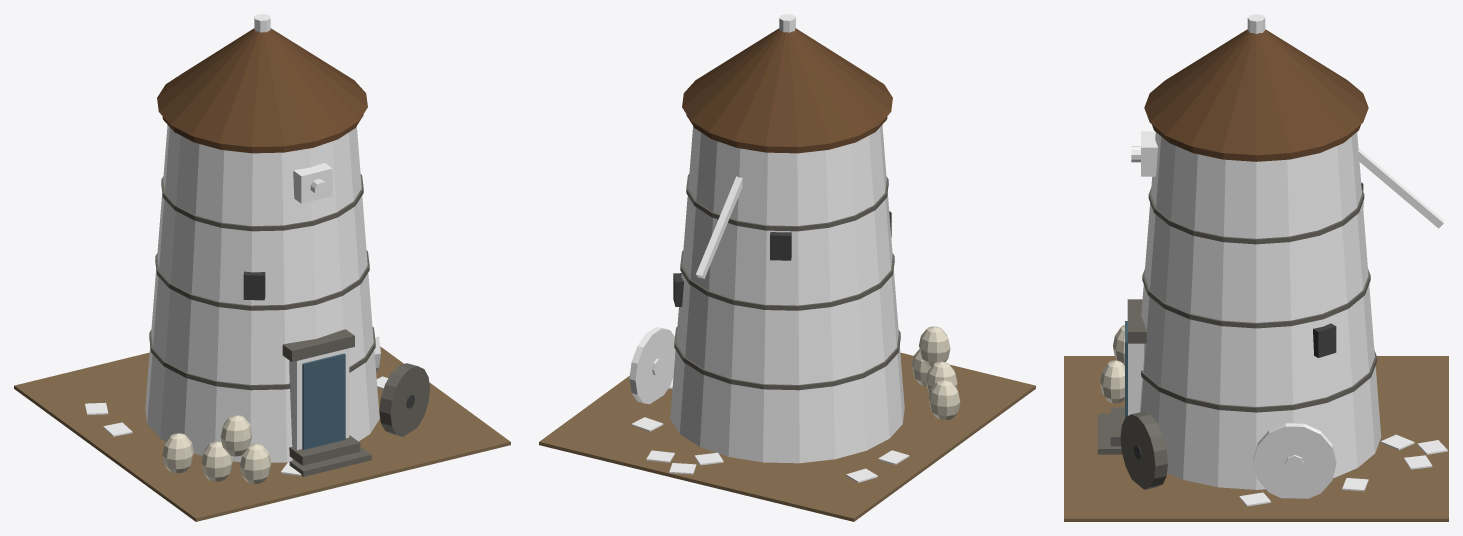
Rendered from degirmen.glb.
The picture shows the model from 3 angles, left to right: view 1: azimuth 30°, elevation 25°; view 2: azimuth 150°, elevation 25°; view 3: azimuth 270°, elevation 25°; orthographic projection. The views are drawn at different scales.
Parts seen in each view (by area): view 1: Basamak; view 2: Basamak; view 3: Basamak.
Part boxes in pixels (box(x1,y1,x2,y2)): Basamak: box(14, 14, 510, 521); Basamak: box(539, 14, 1035, 521); Basamak: box(1064, 14, 1448, 521).
Size of the model in its own units: 1 by 1.22 by 1.
